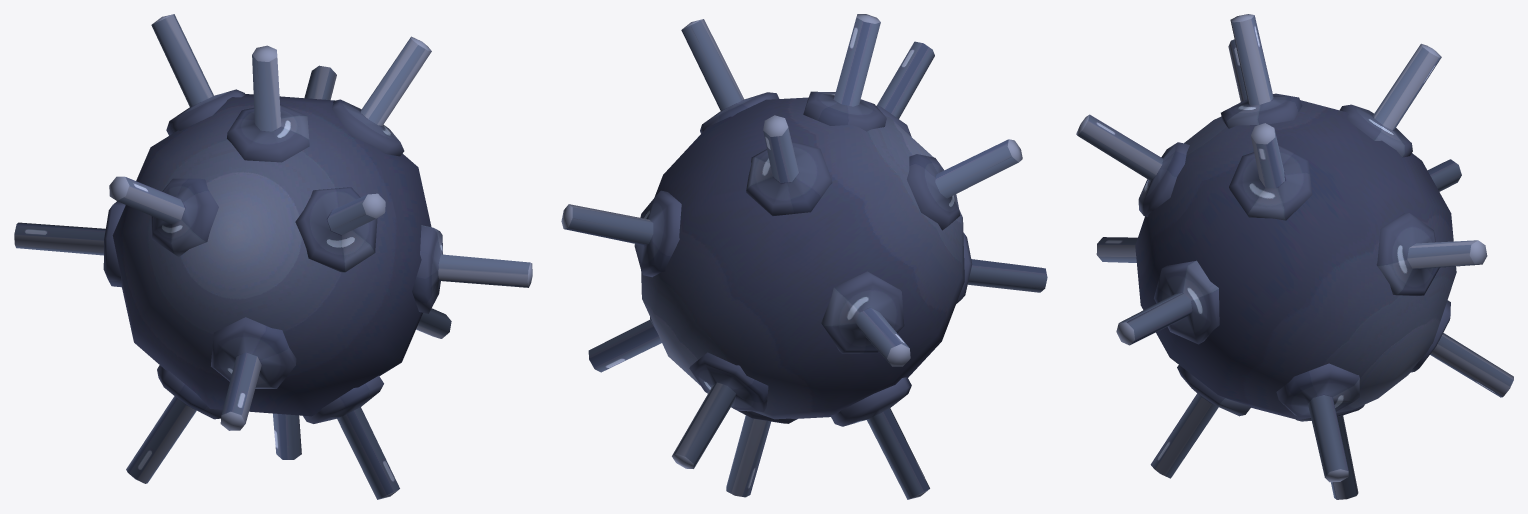
3 views of the same model, side by side, from view 1: azimuth 30°, elevation 25°; view 2: azimuth 150°, elevation 25°; view 3: azimuth 270°, elevation 25° (orthographic). The views are drawn at different scales.
Visible parts, largest first — view 1: MOABMineGEO; view 2: MOABMineGEO; view 3: MOABMineGEO.
Part boxes in pixels (box(x1,y1,x2,y2)): MOABMineGEO: box(14, 14, 532, 499); MOABMineGEO: box(561, 14, 1047, 499); MOABMineGEO: box(1076, 14, 1513, 499).
Bounding box in the file's own units: 17.04 × 19.57 × 17.36.
Materials: 1 (1 with a texture image).
